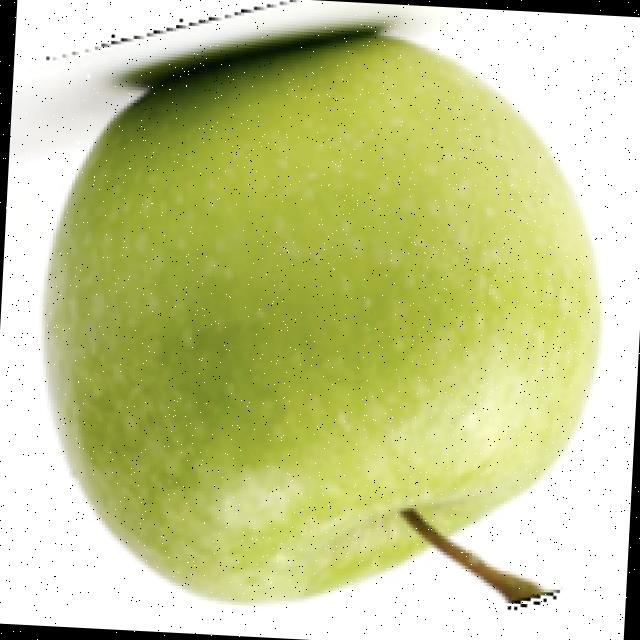apple: (38, 2, 606, 612)
